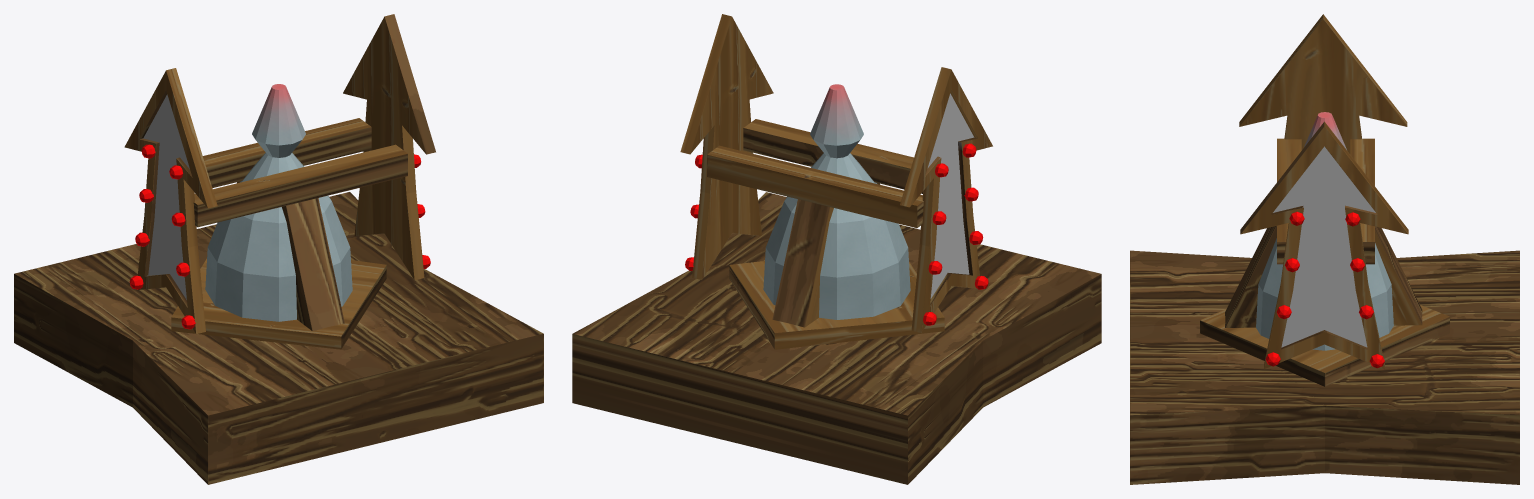
File: GameReadyLaserBase.glb
3 views of the same model, side by side, from view 1: azimuth 30°, elevation 25°; view 2: azimuth 150°, elevation 25°; view 3: azimuth 270°, elevation 25° (orthographic).
Visible parts, largest first — view 1: Laserbase.008; view 2: Laserbase.008; view 3: Laserbase.008.
Part boxes in pixels (x1=…): Laserbase.008: x1=14, y1=14, x2=543, y2=484; Laserbase.008: x1=572, y1=14, x2=1101, y2=484; Laserbase.008: x1=1130, y1=14, x2=1519, y2=484.
Bounding box in the file's own units: 3.42 × 3.23 × 3.42.
1 material, 1 textured.
